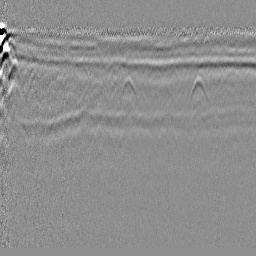cavity: (117, 74, 138, 105)
